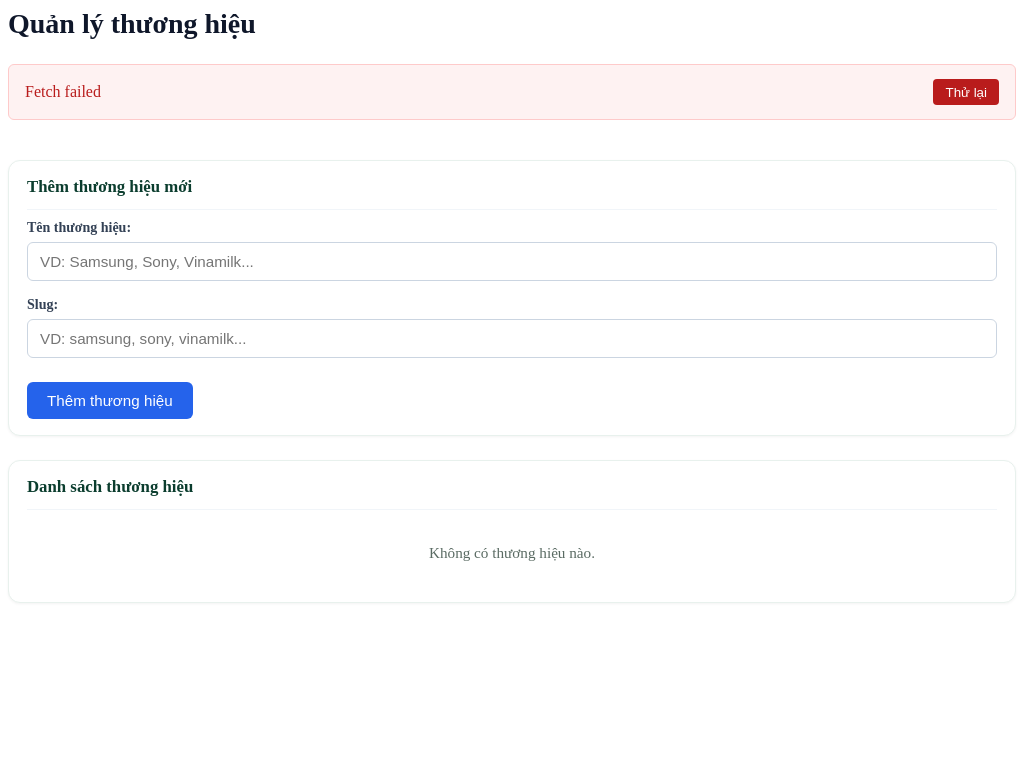
Test: displays retry on load failure
Expected: the text "Fetch failed" is shown, [25, 83, 101, 101]
Click the button "Thử lại".
click(966, 92)  # box [934, 79, 999, 105]
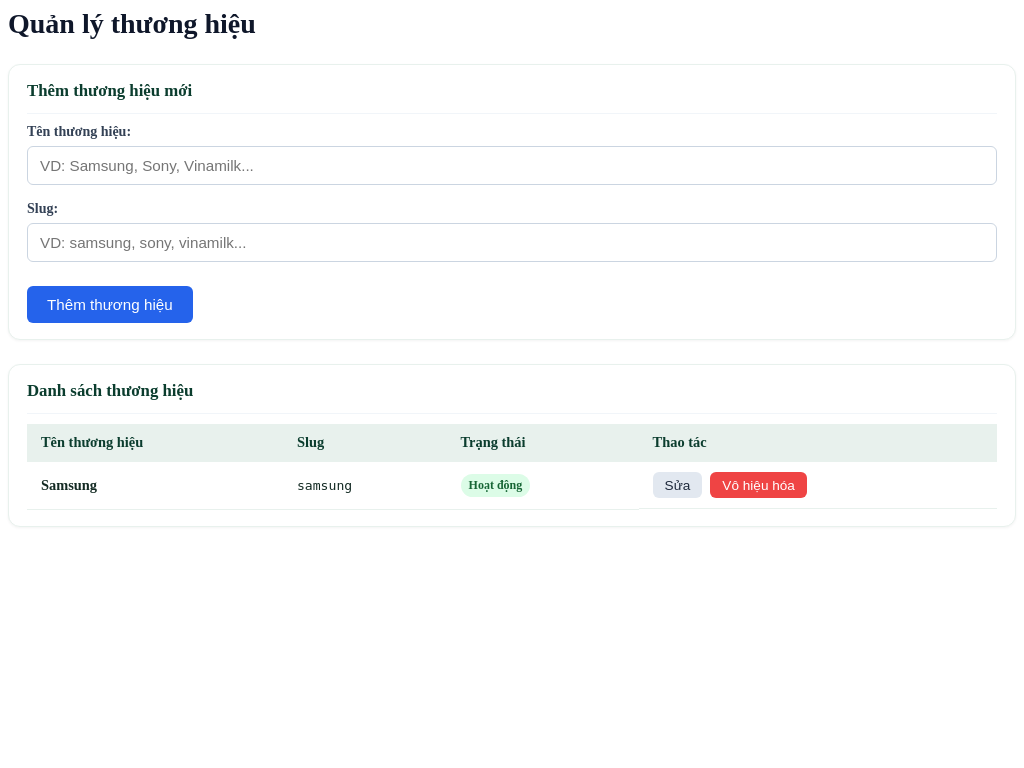
Result: the text "Samsung" is shown at [41, 477, 97, 493]
